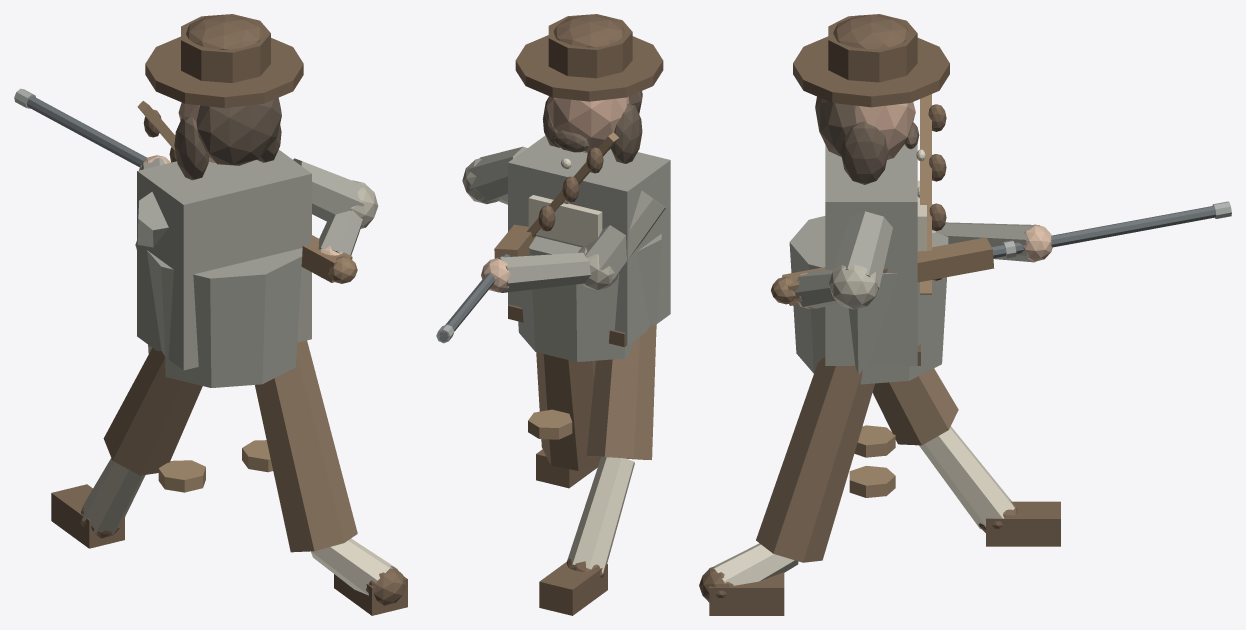
The model's file is cameronian_hodden_kneeling_musket.glb.
The picture shows the model from 3 angles, left to right: view 1: azimuth 30°, elevation 25°; view 2: azimuth 150°, elevation 25°; view 3: azimuth 270°, elevation 25°; orthographic projection. The views are drawn at different scales.
Visible parts, largest first — view 1: hodden, brown, leather, hair, linen, leather_lt, iron, wood, hodden_lt; view 2: hodden, leather, brown, linen, skin, hair, leather_lt, hodden_lt, wood, iron, skin_light; view 3: hodden, leather, brown, linen, hair, leather_lt, wood, iron, skin, hodden_lt, skin_light.
Part boxes in pixels (x1,y1,x2,y2): hodden: [137, 149, 365, 387]; brown: [103, 340, 357, 552]; leather: [51, 14, 407, 615]; hair: [174, 98, 281, 180]; linen: [82, 458, 397, 595]; leather_lt: [137, 101, 272, 492]; iron: [26, 96, 146, 167]; wood: [301, 235, 357, 283]; hodden_lt: [135, 180, 378, 249]; hodden: [468, 135, 670, 361]; leather: [508, 14, 663, 615]; brown: [536, 324, 656, 470]; linen: [528, 158, 634, 573]; skin: [546, 96, 629, 153]; hair: [542, 91, 642, 163]; leather_lt: [527, 132, 618, 439]; hodden_lt: [462, 158, 618, 290]; wood: [494, 224, 535, 258]; iron: [438, 254, 510, 341]; skin_light: [481, 258, 510, 292]; hodden: [789, 144, 1039, 384]; leather: [699, 14, 1060, 615]; brown: [756, 356, 958, 562]; linen: [713, 149, 1014, 585]; hair: [815, 96, 919, 184]; leather_lt: [849, 94, 931, 497]; wood: [771, 237, 994, 305]; iron: [991, 206, 1215, 258]; skin: [854, 102, 915, 159]; hodden_lt: [829, 230, 935, 309]; skin_light: [795, 224, 1052, 308].
Size of the model in its own units: 0.6902 by 1.57 by 1.39.
